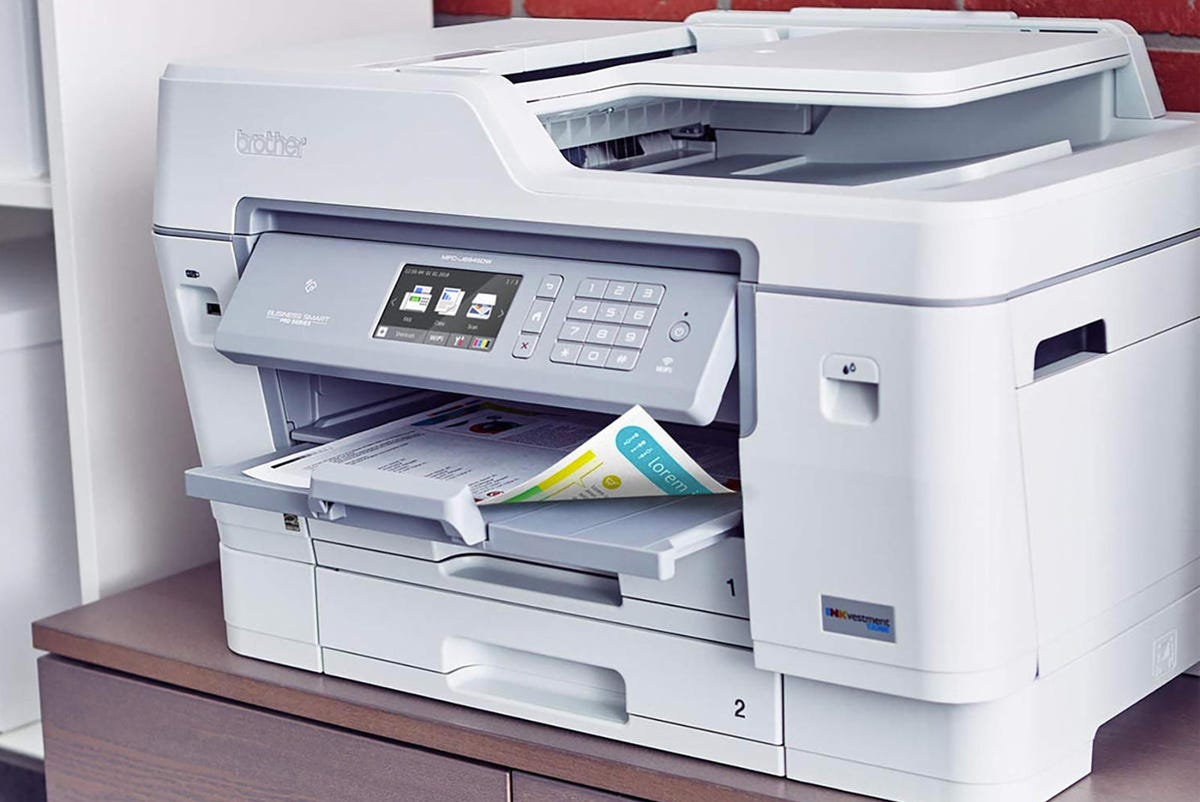printer: (139, 9, 1199, 754)
